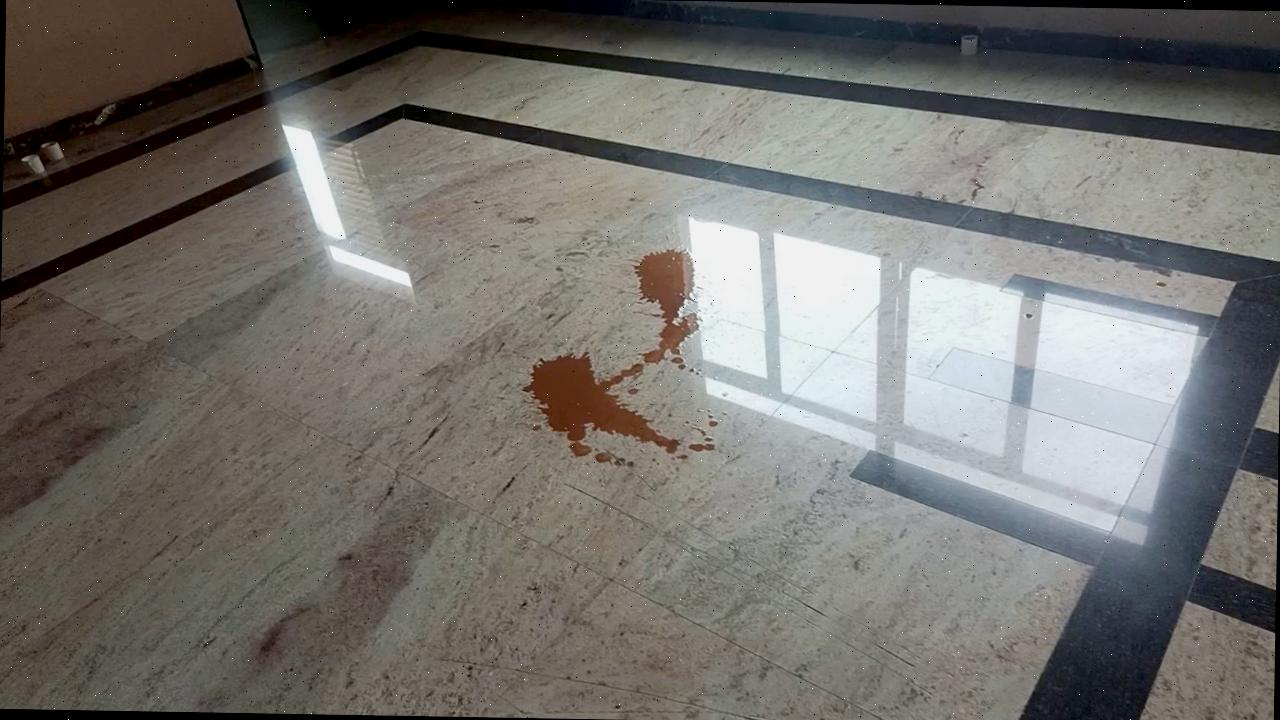dirty_floor: (523, 243, 722, 476)
